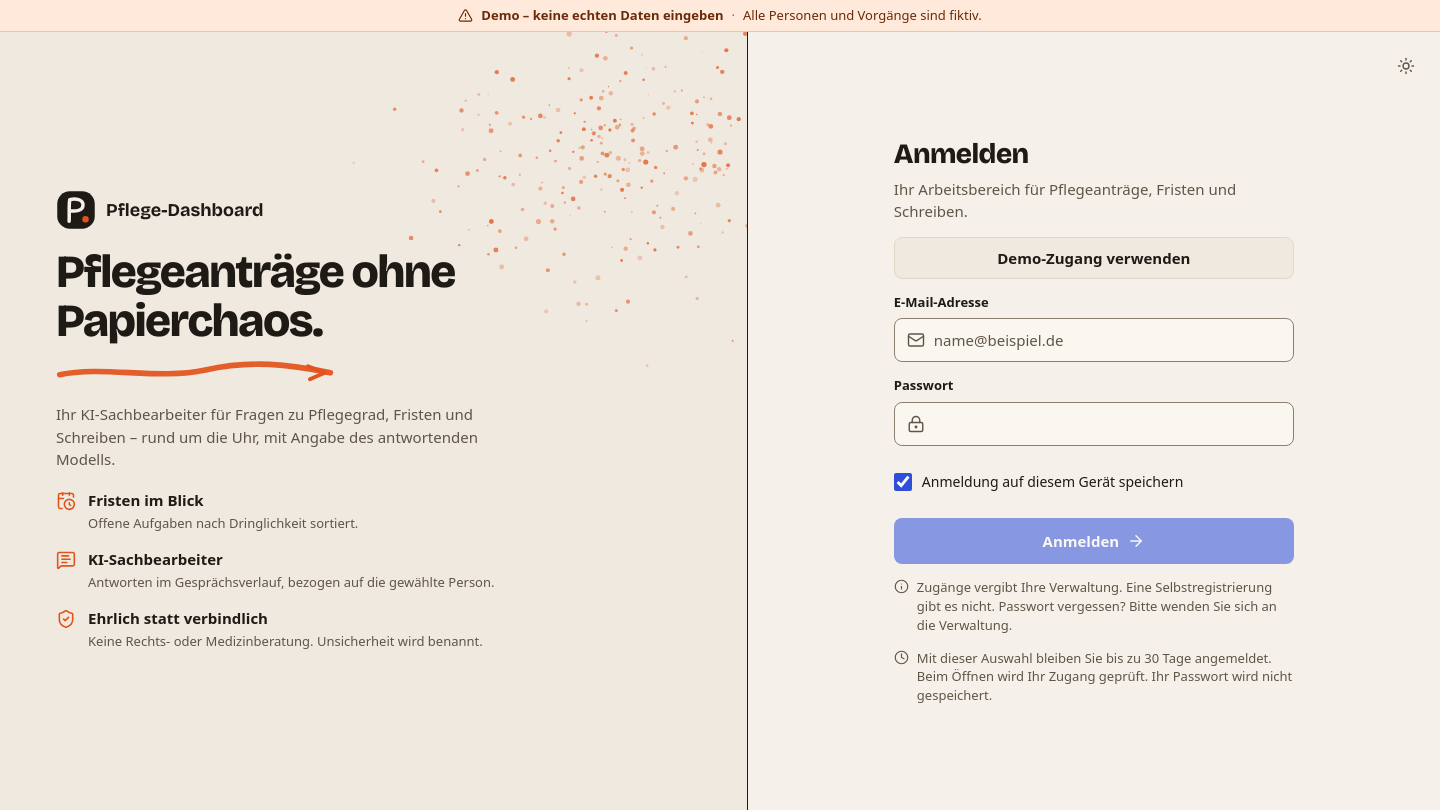
Sachbearbeiter-Test: angemeldete Arbeitsansicht › zeigt gelieferte echte Nutzungswerte unverändert, ohne Kosten zu behaupten
In the field labelled "E-Mail-Adresse": (1107, 340) [934,320,1281,362], type "pruefung@beispiel.invalid"
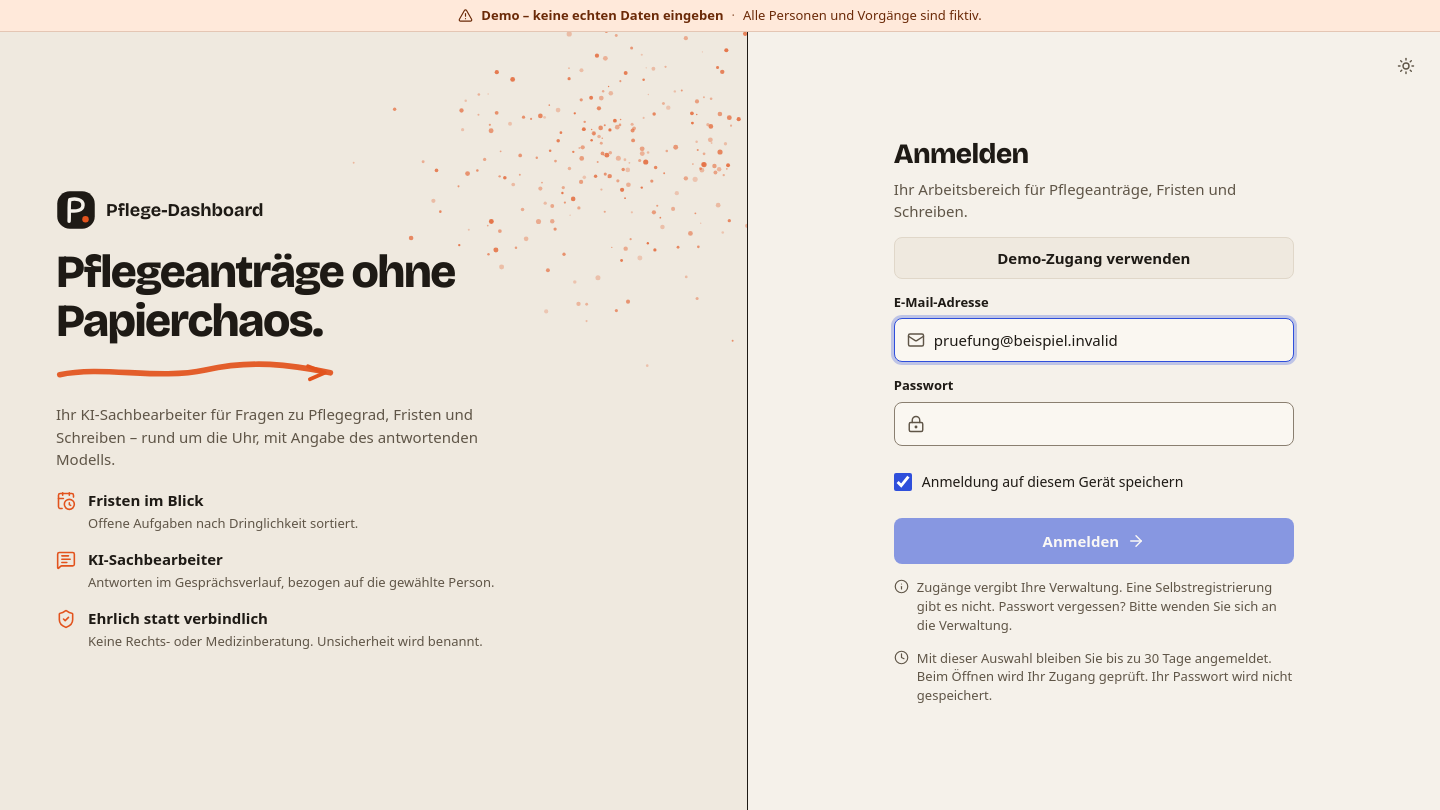
In the password field labelled "Passwort": (1107, 424) [934,403,1281,445], type "nur-synthetisch"
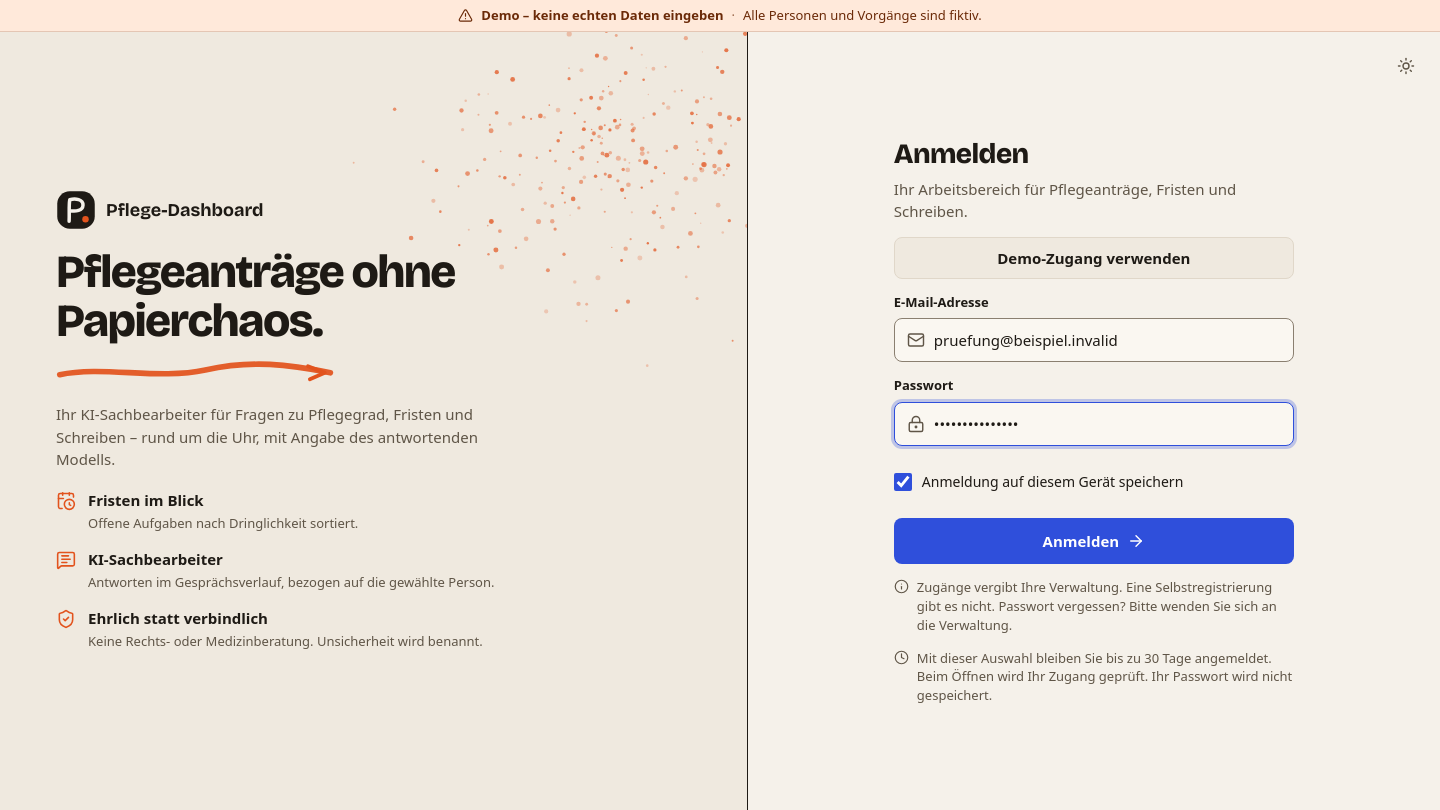
Click the checkbox labelled "Anmeldung auf diesem Gerät speichern": (903, 482) [894,473,912,491]
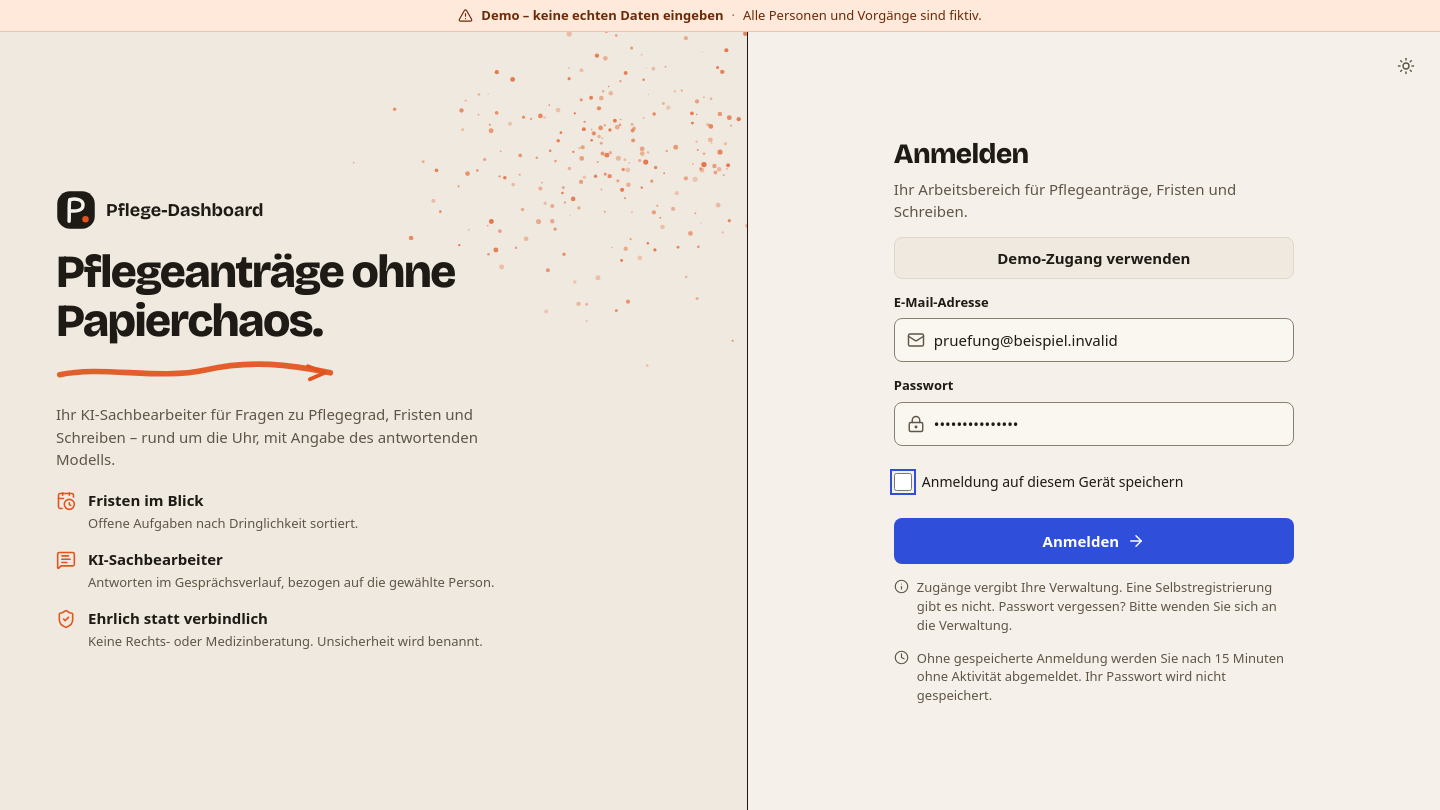
Click the button "Anmelden": (1094, 541) [894,518,1294,564]
(page scrolled)
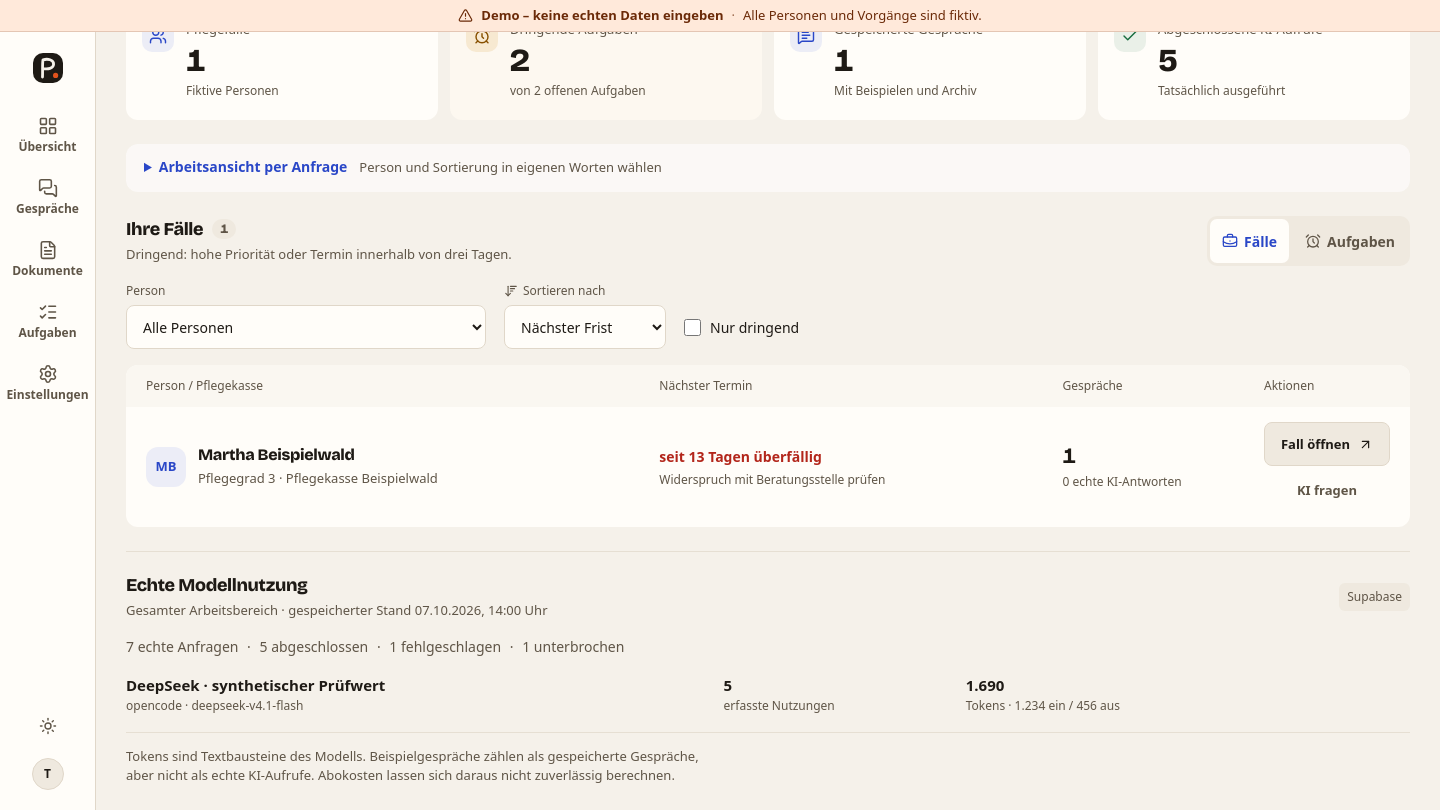
expect the text "DeepSeek · synthetischer Prüfwert" is shown: met, box [126,675,385,695]
expect the text "7 echte Anfragen" is shown: met, box [126,637,624,656]
expect the text "1.690" is shown: met, box [966,675,1004,695]
